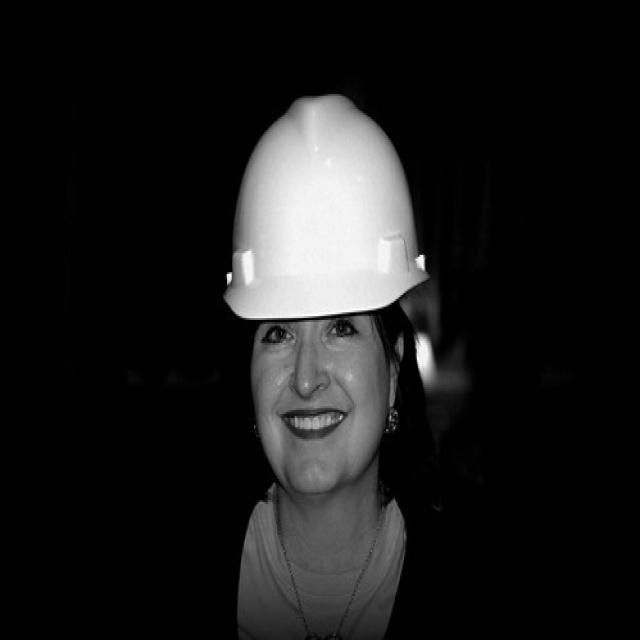helmet: (219, 106, 427, 430)
